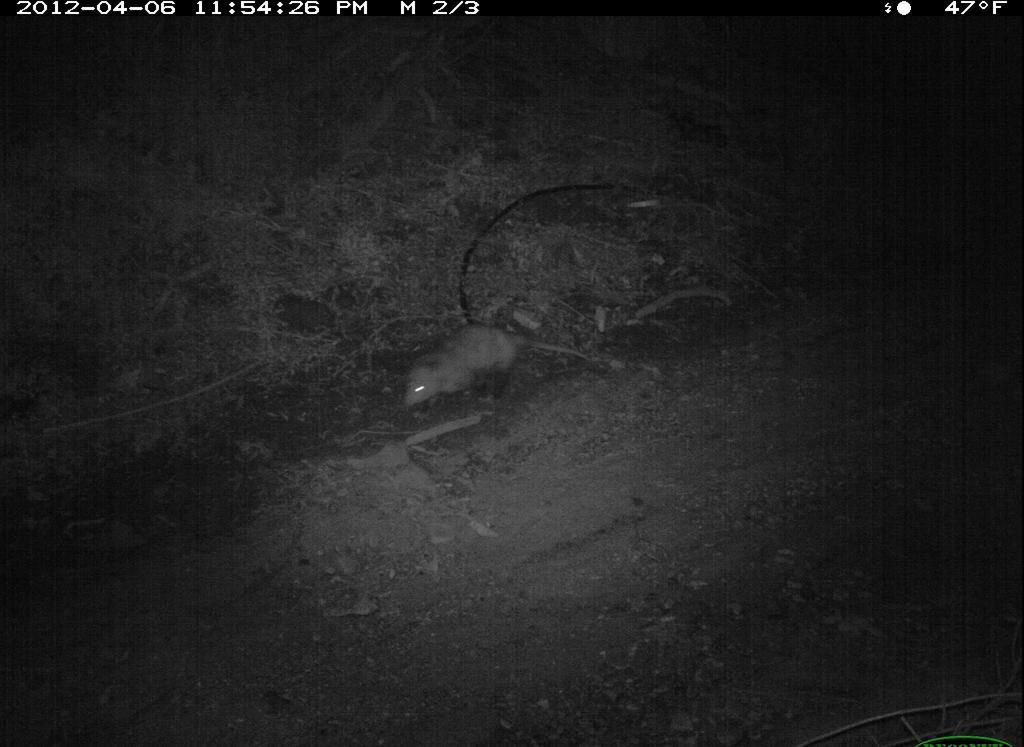opossum: (397, 315, 582, 418)
